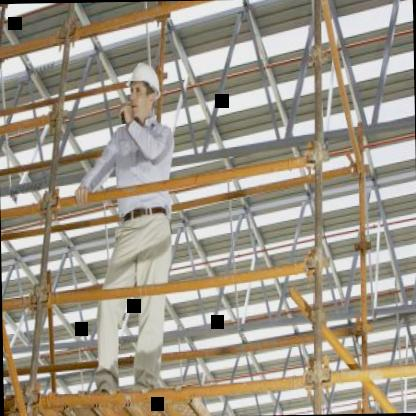helmet: (122, 57, 162, 122)
